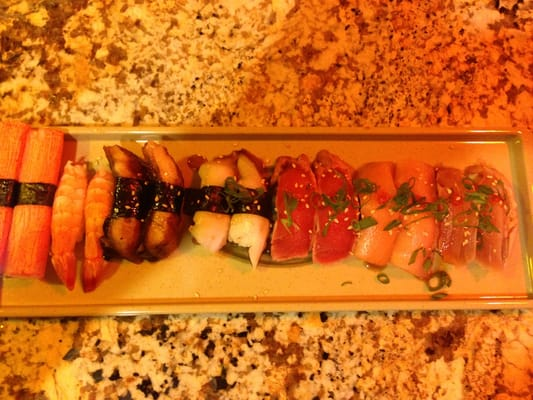pizza: (50, 160, 87, 292), (3, 204, 52, 278)
